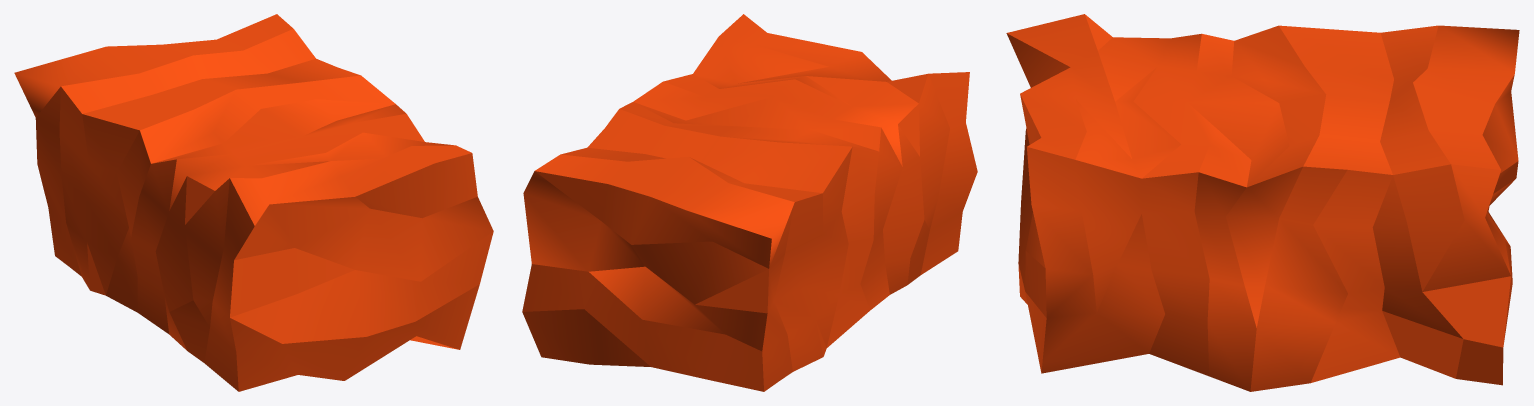
Rendered from Hay_3.fbx.
3 views of the same model, side by side, from view 1: azimuth 30°, elevation 25°; view 2: azimuth 150°, elevation 25°; view 3: azimuth 270°, elevation 25° (orthographic). The views are drawn at different scales.
Parts seen in each view (by area): view 1: Hay_3; view 2: Hay_3; view 3: Hay_3.
Boxes of the visible parts, x1,y1,x2,y2 form: Hay_3: [14, 14, 493, 391]; Hay_3: [522, 14, 977, 391]; Hay_3: [1006, 14, 1519, 391].
Size of the model in its own units: 23 by 17.17 by 31.82.
